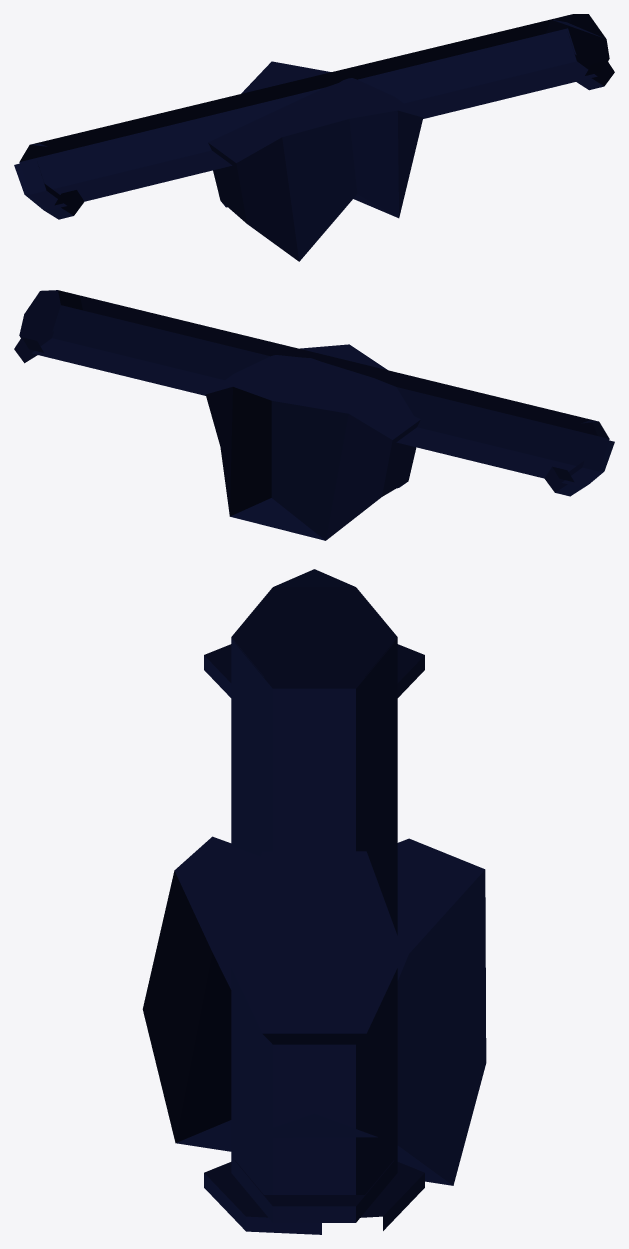
Rendered from gangora.fbx.
The picture shows the model from 3 angles, top to bottom: view 1: azimuth 30°, elevation 25°; view 2: azimuth 150°, elevation 25°; view 3: azimuth 270°, elevation 25°; orthographic projection. The views are drawn at different scales.
Visible parts, largest first — view 1: Circle.001, Circle; view 2: Circle.001, Circle; view 3: Circle.001, Circle.
Part boxes in pixels (left/top/right/bottom): Circle.001: left=14, top=14, right=614, bottom=219; Circle: left=208, top=61, right=423, bottom=261; Circle.001: left=14, top=290, right=614, bottom=496; Circle: left=205, top=344, right=420, bottom=540; Circle.001: left=204, top=569, right=424, bottom=1234; Circle: left=142, top=836, right=486, bottom=1185.
Bounding box in the file's own units: 878 × 229 × 238.
